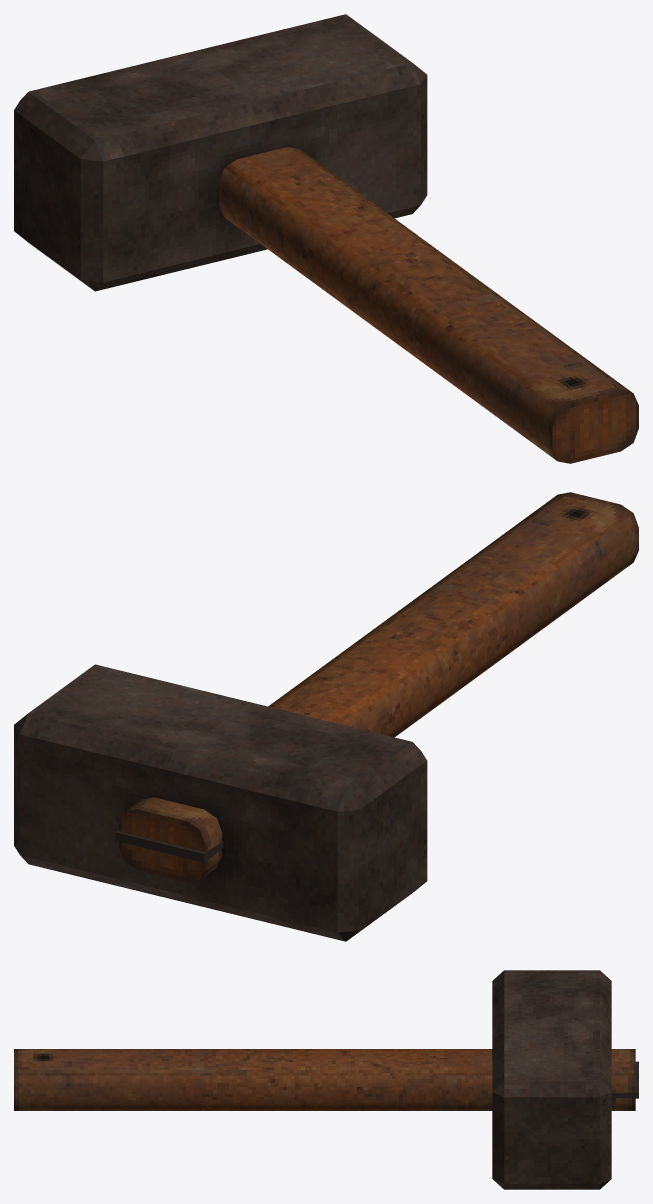
File: hammer_mx_1.glb
3 renders of one model, top to bottom at view 1: azimuth 30°, elevation 25°; view 2: azimuth 150°, elevation 25°; view 3: azimuth 270°, elevation 25°, orthographic. The views are drawn at different scales.
Parts seen in each view (by area): view 1: hammer_mx_1; view 2: hammer_mx_1; view 3: hammer_mx_1.
Boxes of the visible parts, bbox=[...] form: hammer_mx_1: bbox=[14, 14, 638, 463]; hammer_mx_1: bbox=[14, 492, 638, 941]; hammer_mx_1: bbox=[14, 970, 638, 1189].
Bounding box in the file's own units: 0.24 × 0.1 × 0.5227.
Materials: 1 (1 with a texture image).
